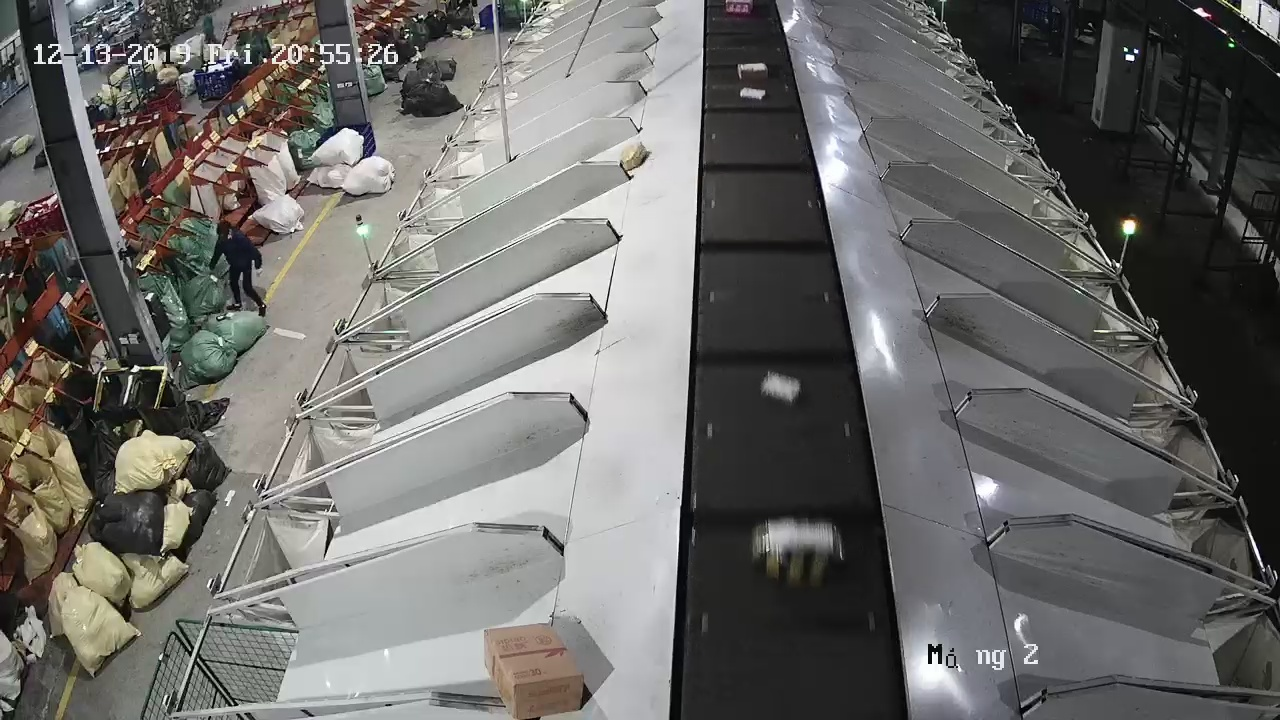parcel: (619, 142, 647, 169)
